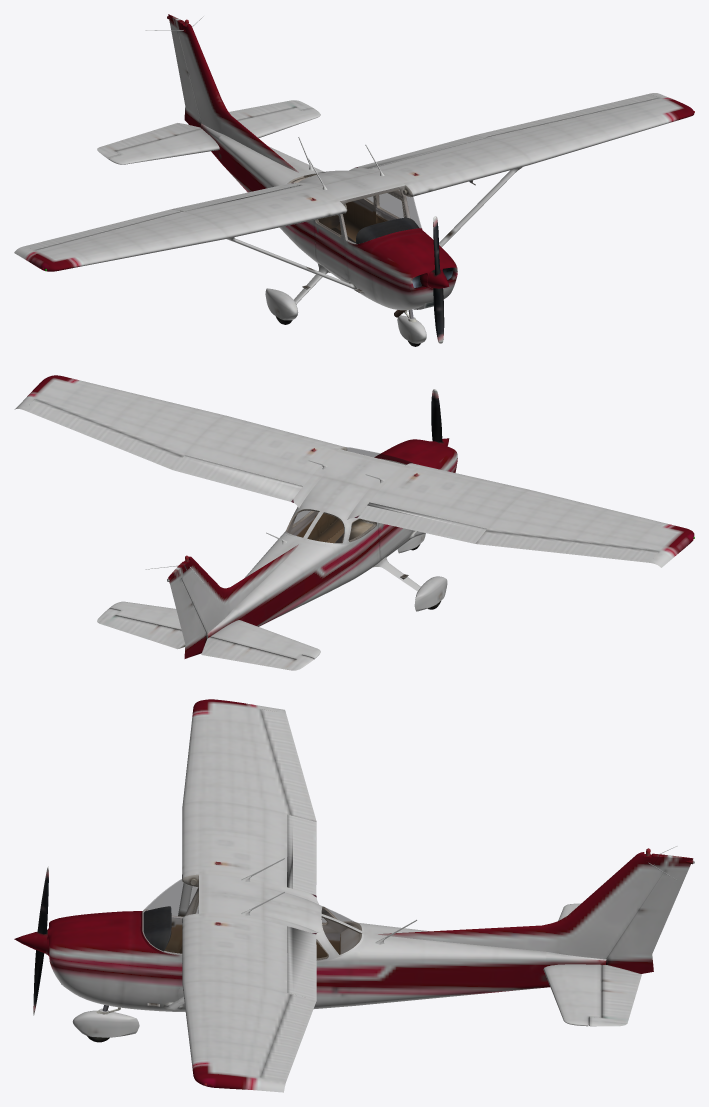
The model's file is cessna172-exterior.glb.
The picture shows the model from 3 angles, top to bottom: view 1: azimuth 30°, elevation 25°; view 2: azimuth 150°, elevation 25°; view 3: azimuth 270°, elevation 25°; orthographic projection. The views are drawn at different scales.
Parts seen in each view (by area): view 1: Cessna_Exterior_Body_MAT_0, Cessna_Exterior_Body_MAT_0.002, Cessna_Exterior_Body_MAT_0.004, Cessna_Exterior_Glass_MAT_0, Cessna_Exterior_Body_MAT_0.007, Cessna_Interior_Interior_Body_MAT_0, Cessna_Exterior_Body_MAT_0.018, Cessna_Exterior_Body_MAT_0.011, Cessna_Exterior_Body_MAT_0.010, Cessna_Exterior_Body_MAT_0.008, Cessna_Exterior_Body_MAT_0.012, Cessna_Exterior_Body_MAT_0.014 (+9 smaller); view 2: Cessna_Exterior_Body_MAT_0.002, Cessna_Exterior_Body_MAT_0.004, Cessna_Exterior_Body_MAT_0, Cessna_Exterior_Body_MAT_0.018, Cessna_Exterior_Body_MAT_0.007, Cessna_Exterior_Body_MAT_0.014, Cessna_Exterior_Body_MAT_0.015, Cessna_Exterior_Body_MAT_0.016, Cessna_Exterior_Body_MAT_0.017, Cessna_Exterior_Glass_MAT_0, Cessna_Exterior_Body_MAT_0.011, Cessna_Interior_Interior_Body_MAT_0 (+6 smaller); view 3: Cessna_Exterior_Body_MAT_0, Cessna_Exterior_Body_MAT_0.004, Cessna_Exterior_Body_MAT_0.002, Cessna_Exterior_Body_MAT_0.018, Cessna_Exterior_Body_MAT_0.007, Cessna_Exterior_Body_MAT_0.008, Cessna_Exterior_Glass_MAT_0, Cessna_Interior_Interior_Body_MAT_0, Cessna_Exterior_Body_MAT_0.010, Cessna_Exterior_Body_MAT_0.015, Cessna_Exterior_Body_MAT_0.014, Cessna_Exterior_Body_MAT_0.017 (+4 smaller).
Part boxes in pixels (x1,y1,x2,y2): Cessna_Exterior_Body_MAT_0: (281,167,457,317); Cessna_Exterior_Body_MAT_0.002: (370,93,694,197); Cessna_Exterior_Body_MAT_0.004: (14,185,346,271); Cessna_Exterior_Glass_MAT_0: (290,171,421,243); Cessna_Exterior_Body_MAT_0.007: (145,16,298,172); Cessna_Interior_Interior_Body_MAT_0: (288,170,419,244); Cessna_Exterior_Body_MAT_0.018: (200,123,325,229); Cessna_Exterior_Body_MAT_0.011: (108,129,219,164); Cessna_Exterior_Body_MAT_0.010: (238,107,320,138); Cessna_Exterior_Body_MAT_0.008: (167,14,201,127); Cessna_Exterior_Body_MAT_0.012: (97,123,201,158); Cessna_Exterior_Body_MAT_0.014: (476,94,658,137); Cessna_Exterior_Body_MAT_0.002: (14,375,344,485); Cessna_Exterior_Body_MAT_0.004: (369,463,694,567); Cessna_Exterior_Body_MAT_0: (280,439,457,589); Cessna_Exterior_Body_MAT_0.018: (206,535,335,639); Cessna_Exterior_Body_MAT_0.007: (145,544,298,633); Cessna_Exterior_Body_MAT_0.014: (24,399,182,469); Cessna_Exterior_Body_MAT_0.015: (475,530,659,562); Cessna_Exterior_Body_MAT_0.016: (173,455,302,501); Cessna_Exterior_Body_MAT_0.017: (357,502,486,543); Cessna_Exterior_Glass_MAT_0: (286,447,412,542); Cessna_Exterior_Body_MAT_0.011: (210,620,320,659); Cessna_Interior_Interior_Body_MAT_0: (286,447,407,543); Cessna_Exterior_Body_MAT_0: (46,874,364,1011); Cessna_Exterior_Body_MAT_0.004: (182,699,290,886); Cessna_Exterior_Body_MAT_0.002: (182,913,290,1092); Cessna_Exterior_Body_MAT_0.018: (355,923,606,1005); Cessna_Exterior_Body_MAT_0.007: (378,846,677,959); Cessna_Exterior_Body_MAT_0.008: (606,854,694,973); Cessna_Exterior_Glass_MAT_0: (143,875,361,959); Cessna_Interior_Interior_Body_MAT_0: (142,874,362,960); Cessna_Exterior_Body_MAT_0.010: (543,964,601,1026); Cessna_Exterior_Body_MAT_0.015: (260,709,316,821); Cessna_Exterior_Body_MAT_0.014: (260,994,316,1081); Cessna_Exterior_Body_MAT_0.017: (287,814,316,895).
Bounding box in the file's own units: 12.6 × 2.96 × 9.44.
Materials: 4 (2 with a texture image).
